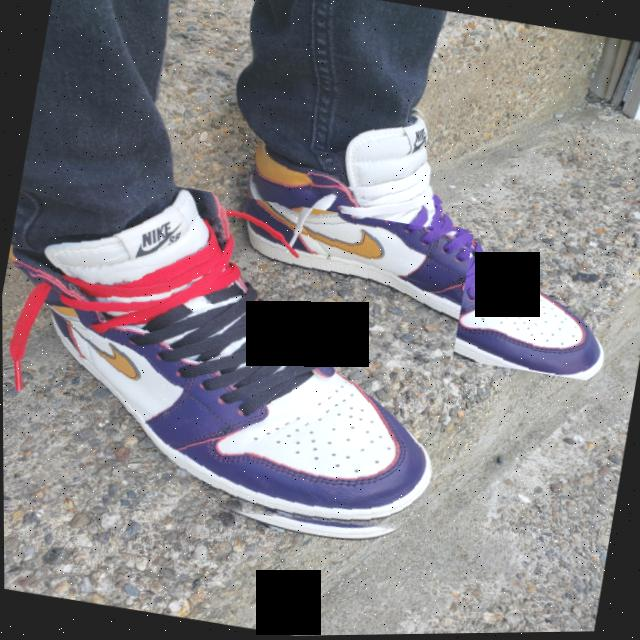shoe: (1, 157, 474, 561), (216, 76, 640, 389)
